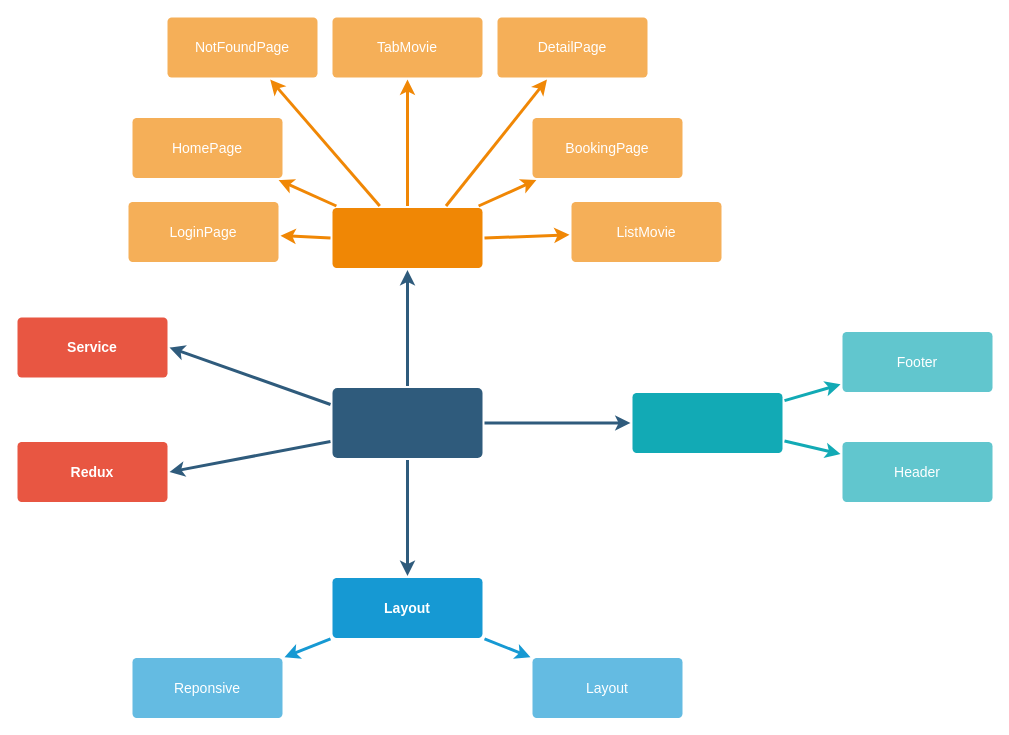
Some shapes in this 1009 by 735 pixel diagram are drawn without their labels. Each missing label, with the centre of its shape:
Advertising: [407,423]
Components: [707,422]
Pages: [407,238]
